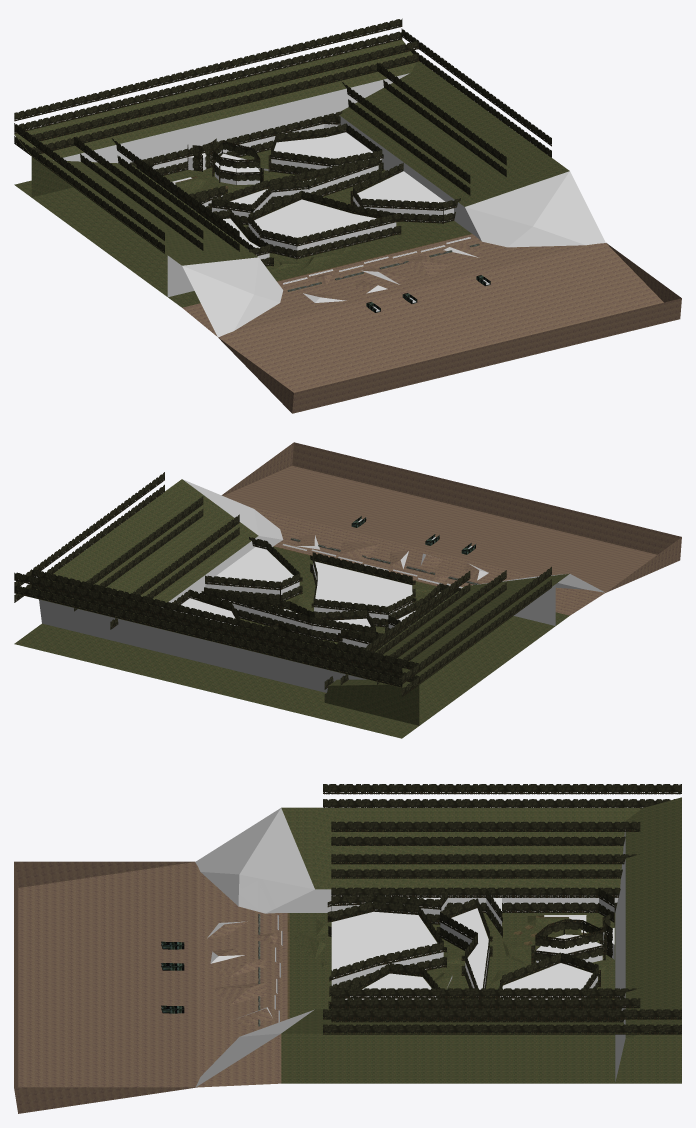
File: forest.fbx
The picture shows the model from 3 angles, top to bottom: view 1: azimuth 30°, elevation 25°; view 2: azimuth 150°, elevation 25°; view 3: azimuth 270°, elevation 25°; orthographic projection. The views are drawn at different scales.
Parts seen in each view (by area): view 1: Forest; view 2: Forest; view 3: Forest.
Boxes of the visible parts, x1=… form: Forest: x1=14, y1=18, x2=681, y2=413; Forest: x1=14, y1=442, x2=681, y2=738; Forest: x1=14, y1=784, x2=681, y2=1113.
Size of the model in its own units: 34406 by 43008 by 8602.
